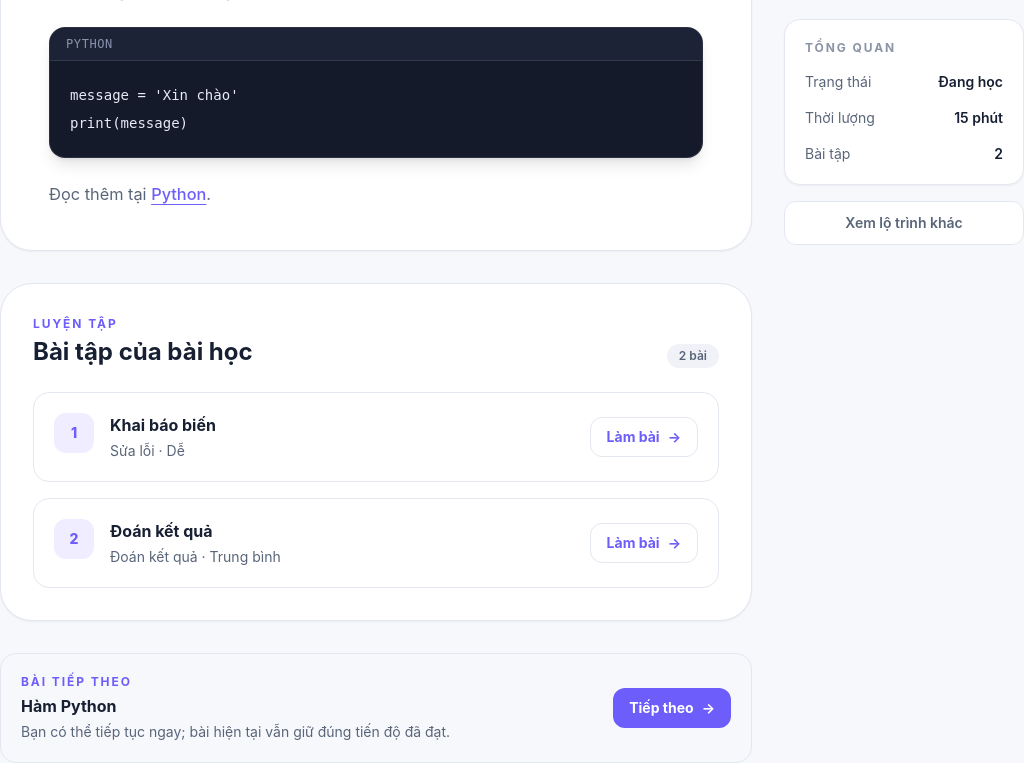
LessonContentView › announces a next-lesson error and stays on the current lesson
(page scrolled)
What coordinates should you click on to do the following:
click the button "Tiếp theo →"
I would click on:
 (672, 708)
Its box is 613,688 -> 731,728.
(page scrolled)
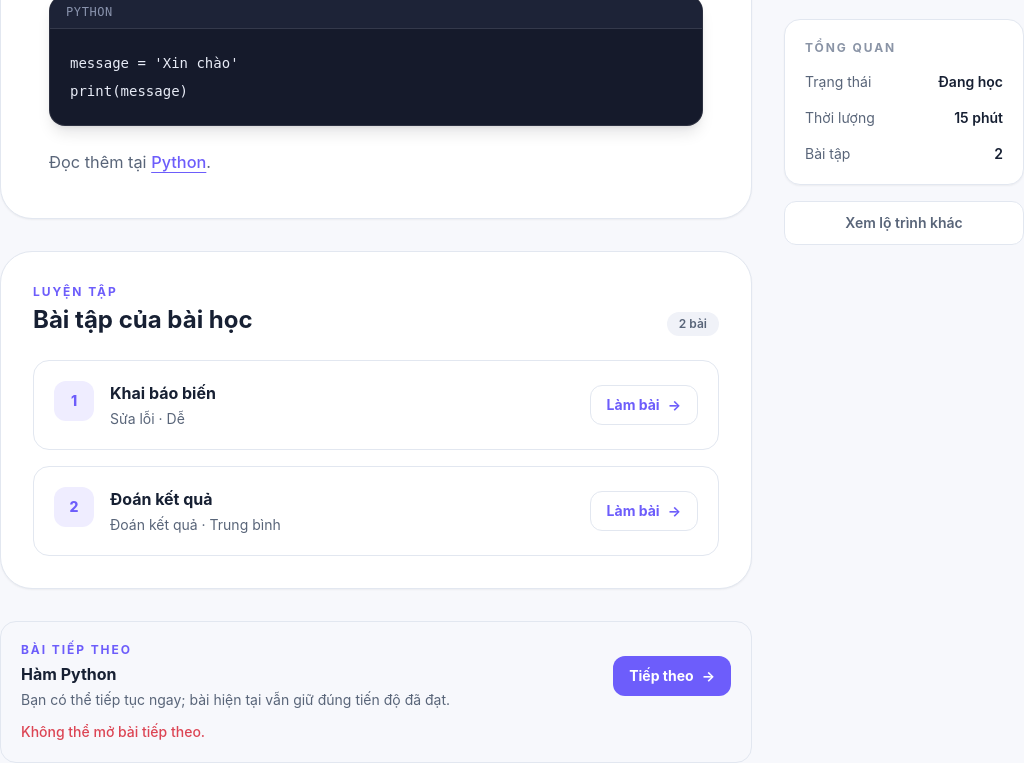
Expected: the message reads "Không thể mở bài tiếp theo.", 21,723 -> 205,740
